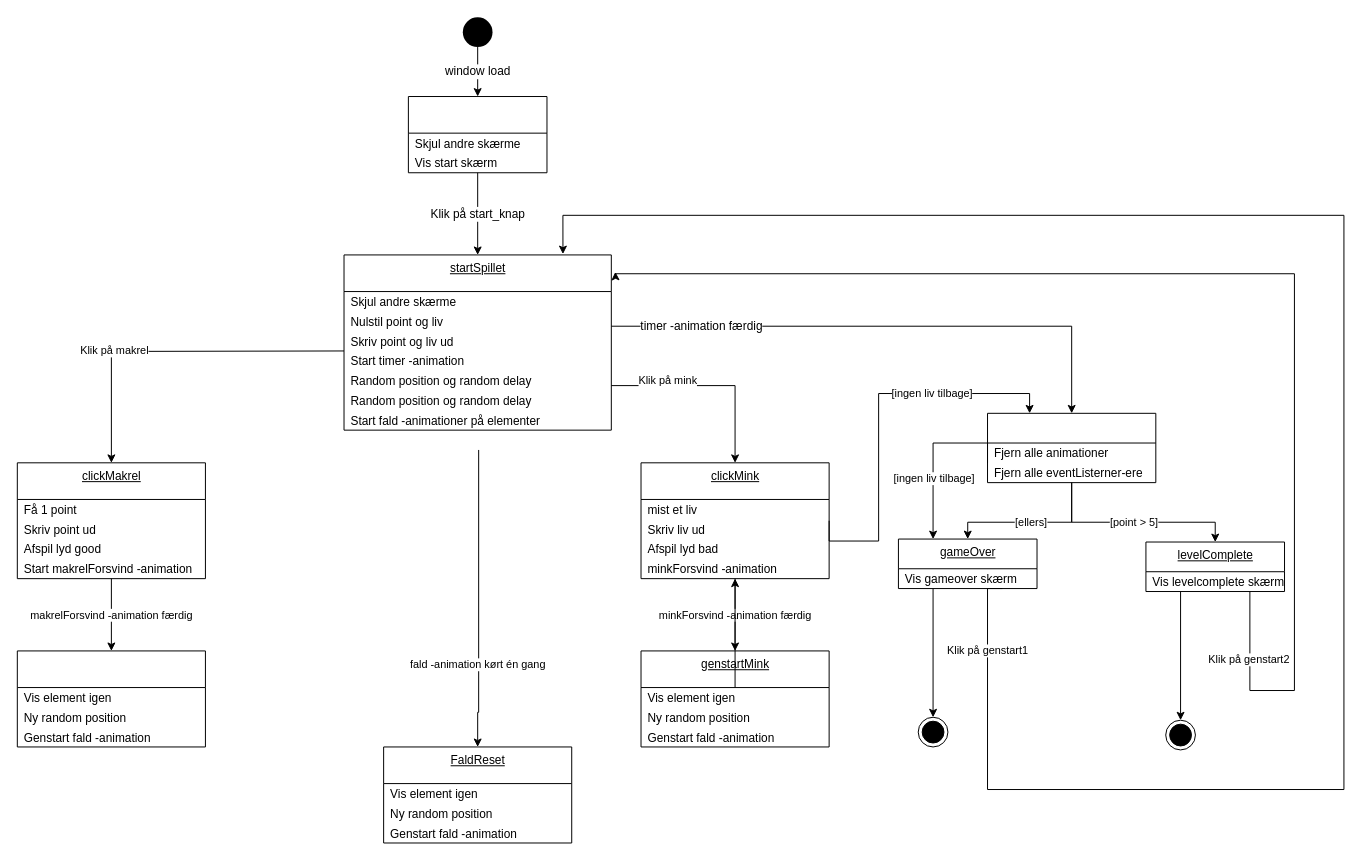
Some shapes in this 1369 by 860 pixel diagram are drawn without their labels. Here are the shapes that lost their labels. From the top down, the box of each, then its label:
(407, 96, 547, 173): sidenVises
(987, 412, 1156, 483): stopSpillet
(16, 650, 205, 747): genstartMakrel
